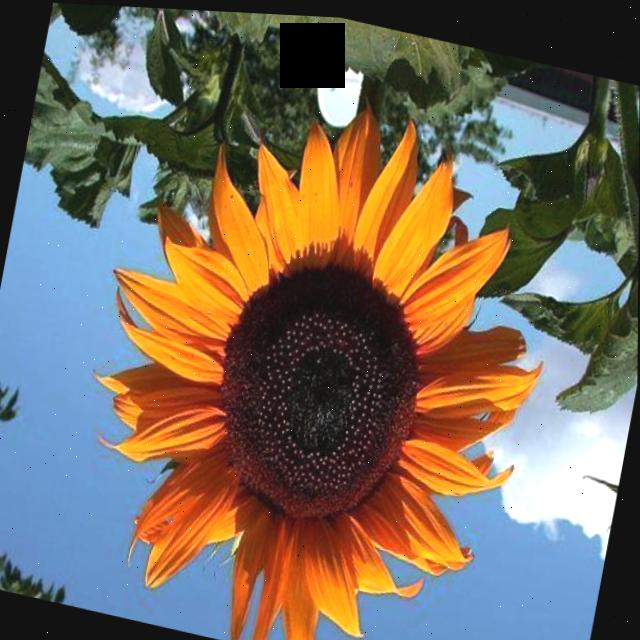sunflower: (28, 18, 585, 640)
